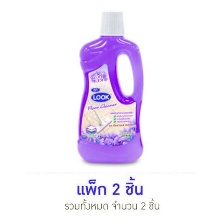cleaning_solution: (77, 6, 146, 167)
